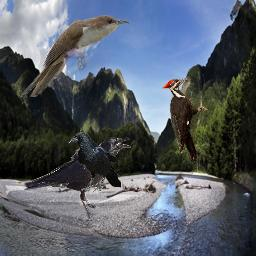Crow: (24, 137, 131, 220), (68, 132, 121, 193)
Cuckoo: (21, 15, 130, 97)
Woodpecker: (162, 77, 208, 164)
